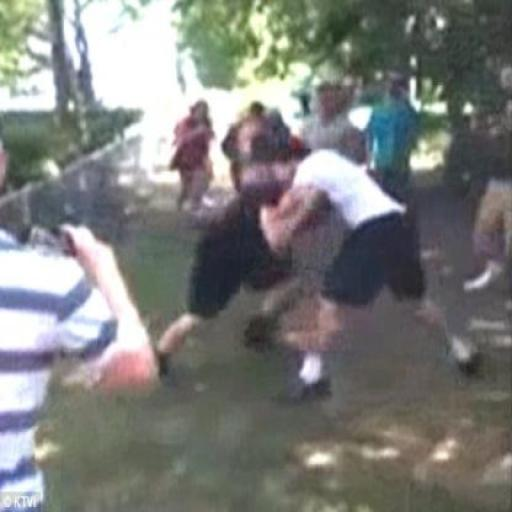Fighting: (148, 117, 488, 407)
